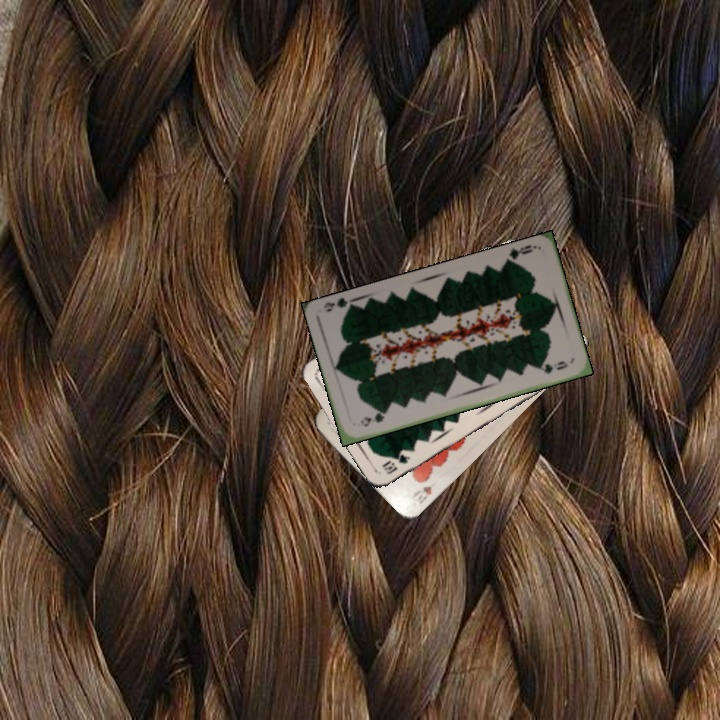G10: (378, 450, 412, 477)
G9: (501, 241, 539, 266), (357, 408, 389, 429)
H10: (408, 482, 434, 506)
